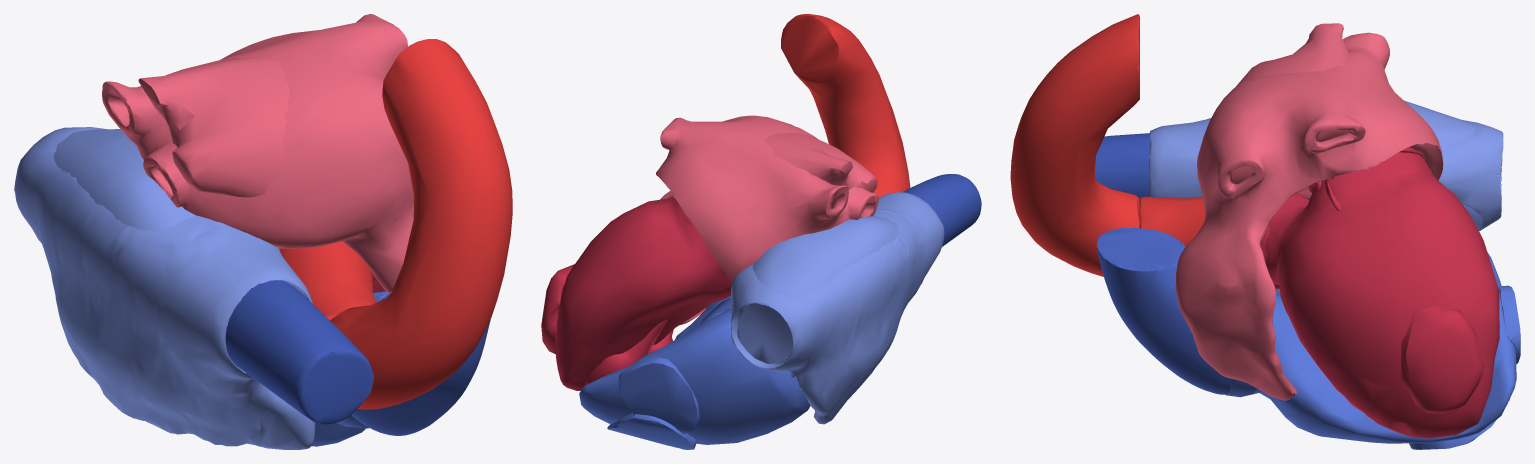
The model's file is corazon.glb.
The picture shows the model from 3 angles, left to right: view 1: azimuth 30°, elevation 25°; view 2: azimuth 150°, elevation 25°; view 3: azimuth 270°, elevation 25°; orthographic projection. The views are drawn at different scales.
Visible parts, largest first — view 1: auricula-der, auricula-izq, aorta, cava-sup, pulmonar, ventriculo-der; view 2: auricula-der, auricula-izq, ventriculo-izq, ventriculo-der, aorta, cava-sup; view 3: ventriculo-izq, auricula-izq, aorta, ventriculo-der, pulmonar, auricula-der, cava-sup.
Boxes of the visible parts, x1,y1,x2,y2 form: auricula-der: [14, 127, 315, 449]; auricula-izq: [102, 14, 413, 293]; aorta: [279, 39, 512, 409]; cava-sup: [225, 280, 373, 424]; pulmonar: [351, 291, 490, 435]; ventriculo-der: [311, 291, 389, 446]; auricula-der: [731, 192, 944, 424]; auricula-izq: [656, 115, 878, 325]; ventriculo-izq: [541, 196, 732, 390]; ventriculo-der: [579, 296, 810, 449]; aorta: [781, 14, 910, 197]; cava-sup: [903, 174, 981, 246]; ventriculo-izq: [1260, 147, 1499, 438]; auricula-izq: [1175, 23, 1443, 400]; aorta: [1010, 14, 1205, 276]; ventriculo-der: [1225, 252, 1520, 449]; pulmonar: [1097, 227, 1231, 394]; auricula-der: [1148, 100, 1503, 293]; cava-sup: [1094, 133, 1150, 204].
Bounding box in the file's own units: 111 × 123 × 139.
